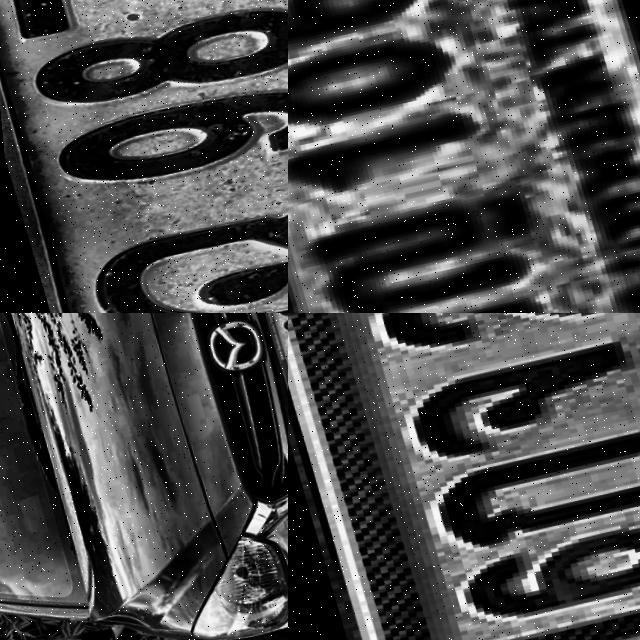license-plate: (288, 313, 640, 640), (288, 0, 640, 313), (0, 0, 288, 313), (245, 313, 288, 405)
